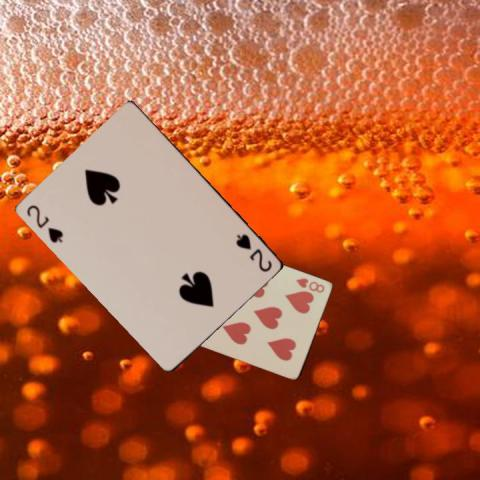2s: (24, 201, 66, 245), (233, 231, 274, 274)
8h: (293, 275, 326, 294)
